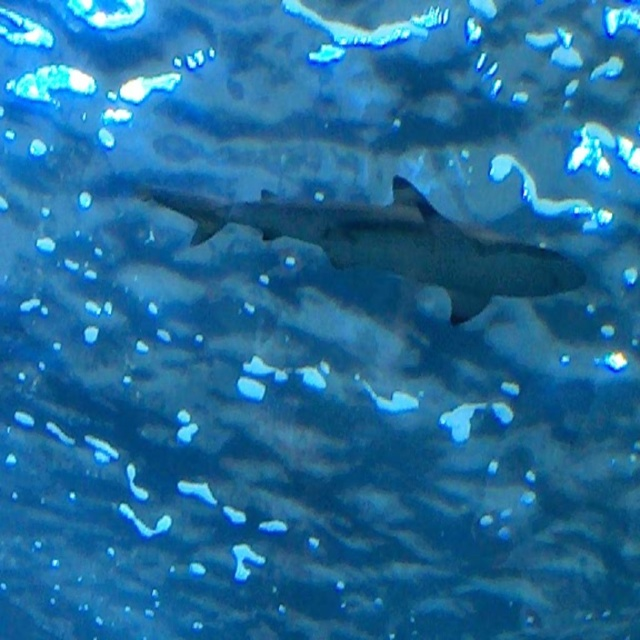Shark: (131, 151, 582, 342)
